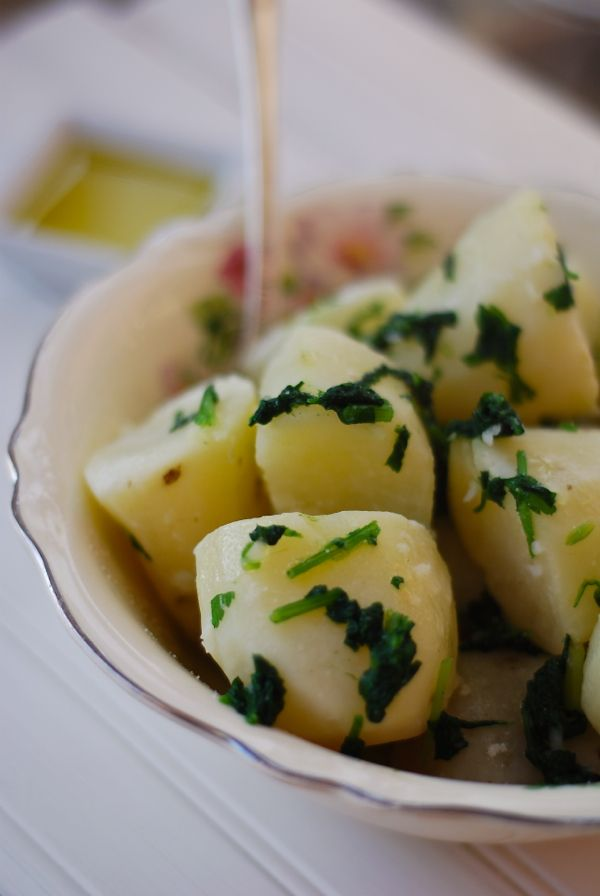boiled potatoes: (198, 384, 416, 685)
